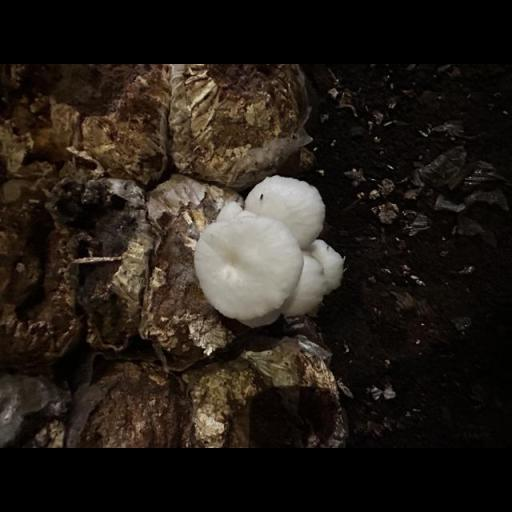White Oyster Mushroom: (187, 174, 354, 328)
